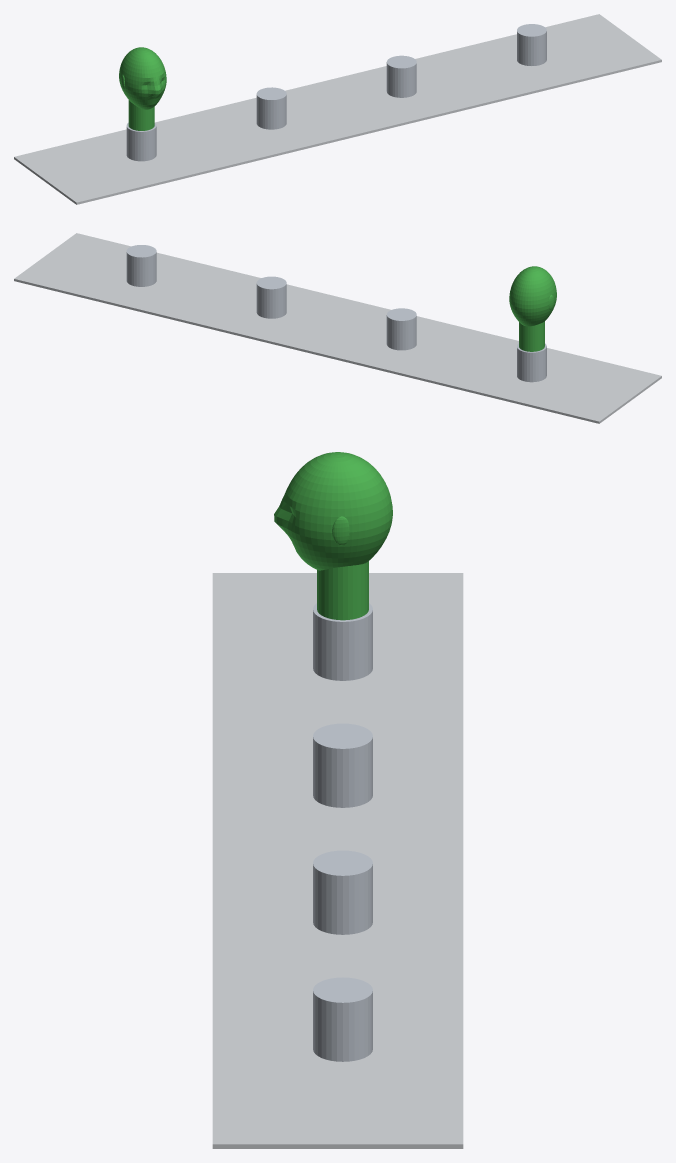
The model's file is ish15.glb.
The picture shows the model from 3 angles, top to bottom: view 1: azimuth 30°, elevation 25°; view 2: azimuth 150°, elevation 25°; view 3: azimuth 270°, elevation 25°; orthographic projection. The views are drawn at different scales.
Parts seen in each view (by area): view 1: Pol, SM_Head_LOD0, Postament_1, Postament_2, Postament_3, Postament_0; view 2: Pol, SM_Head_LOD0, Postament_2, Postament_1, Postament_3, Postament_0; view 3: Pol, SM_Head_LOD0, Postament_1, Postament_2, Postament_3, Postament_0.
Boxes of the visible parts, x1,y1,x2,y2 form: Pol: (14, 14, 661, 204); SM_Head_LOD0: (119, 47, 166, 130); Postament_1: (256, 87, 286, 129); Postament_2: (386, 55, 416, 97); Postament_3: (517, 24, 546, 65); Postament_0: (126, 122, 156, 161); Pol: (14, 233, 661, 423); SM_Head_LOD0: (509, 266, 556, 351); Postament_2: (256, 276, 286, 318); Postament_1: (386, 308, 416, 350); Postament_3: (126, 245, 156, 286); Postament_0: (517, 343, 546, 382); Pol: (212, 573, 463, 1148); SM_Head_LOD0: (274, 452, 392, 620); Postament_1: (313, 723, 372, 807); Postament_2: (313, 850, 372, 934); Postament_3: (313, 977, 372, 1061); Postament_0: (313, 603, 372, 680).
Size of what is drawn, in the model's own units: 2.7 by 0.48 by 0.5.
